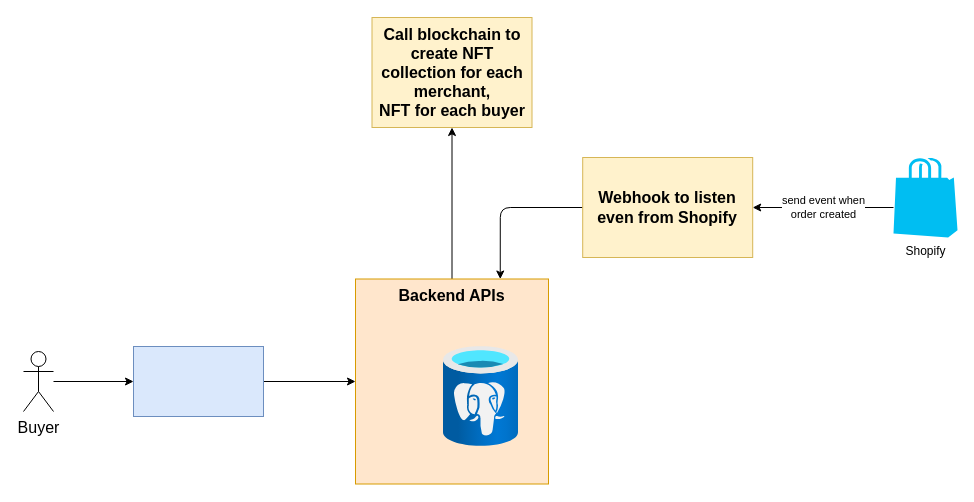
The diagram is 974 pixels wide and 502 high, and some of its shapes have lost their labels. Each missing label, with the box of its shape:
PostgreSQL database: (443, 346, 518, 446)
SoLoyal dashboard: (132, 346, 264, 416)
